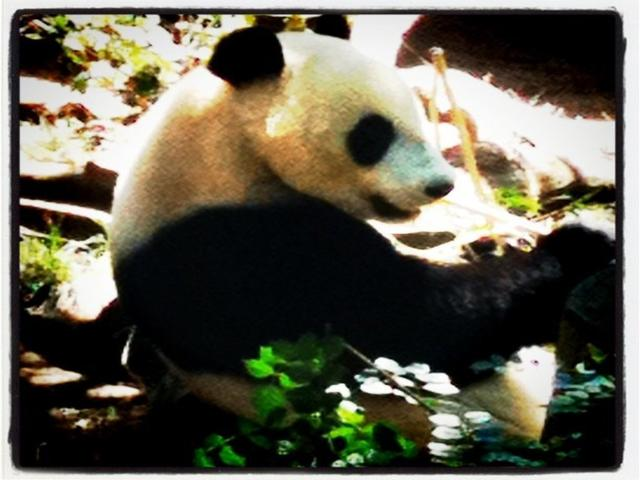panda: (63, 17, 533, 353)
